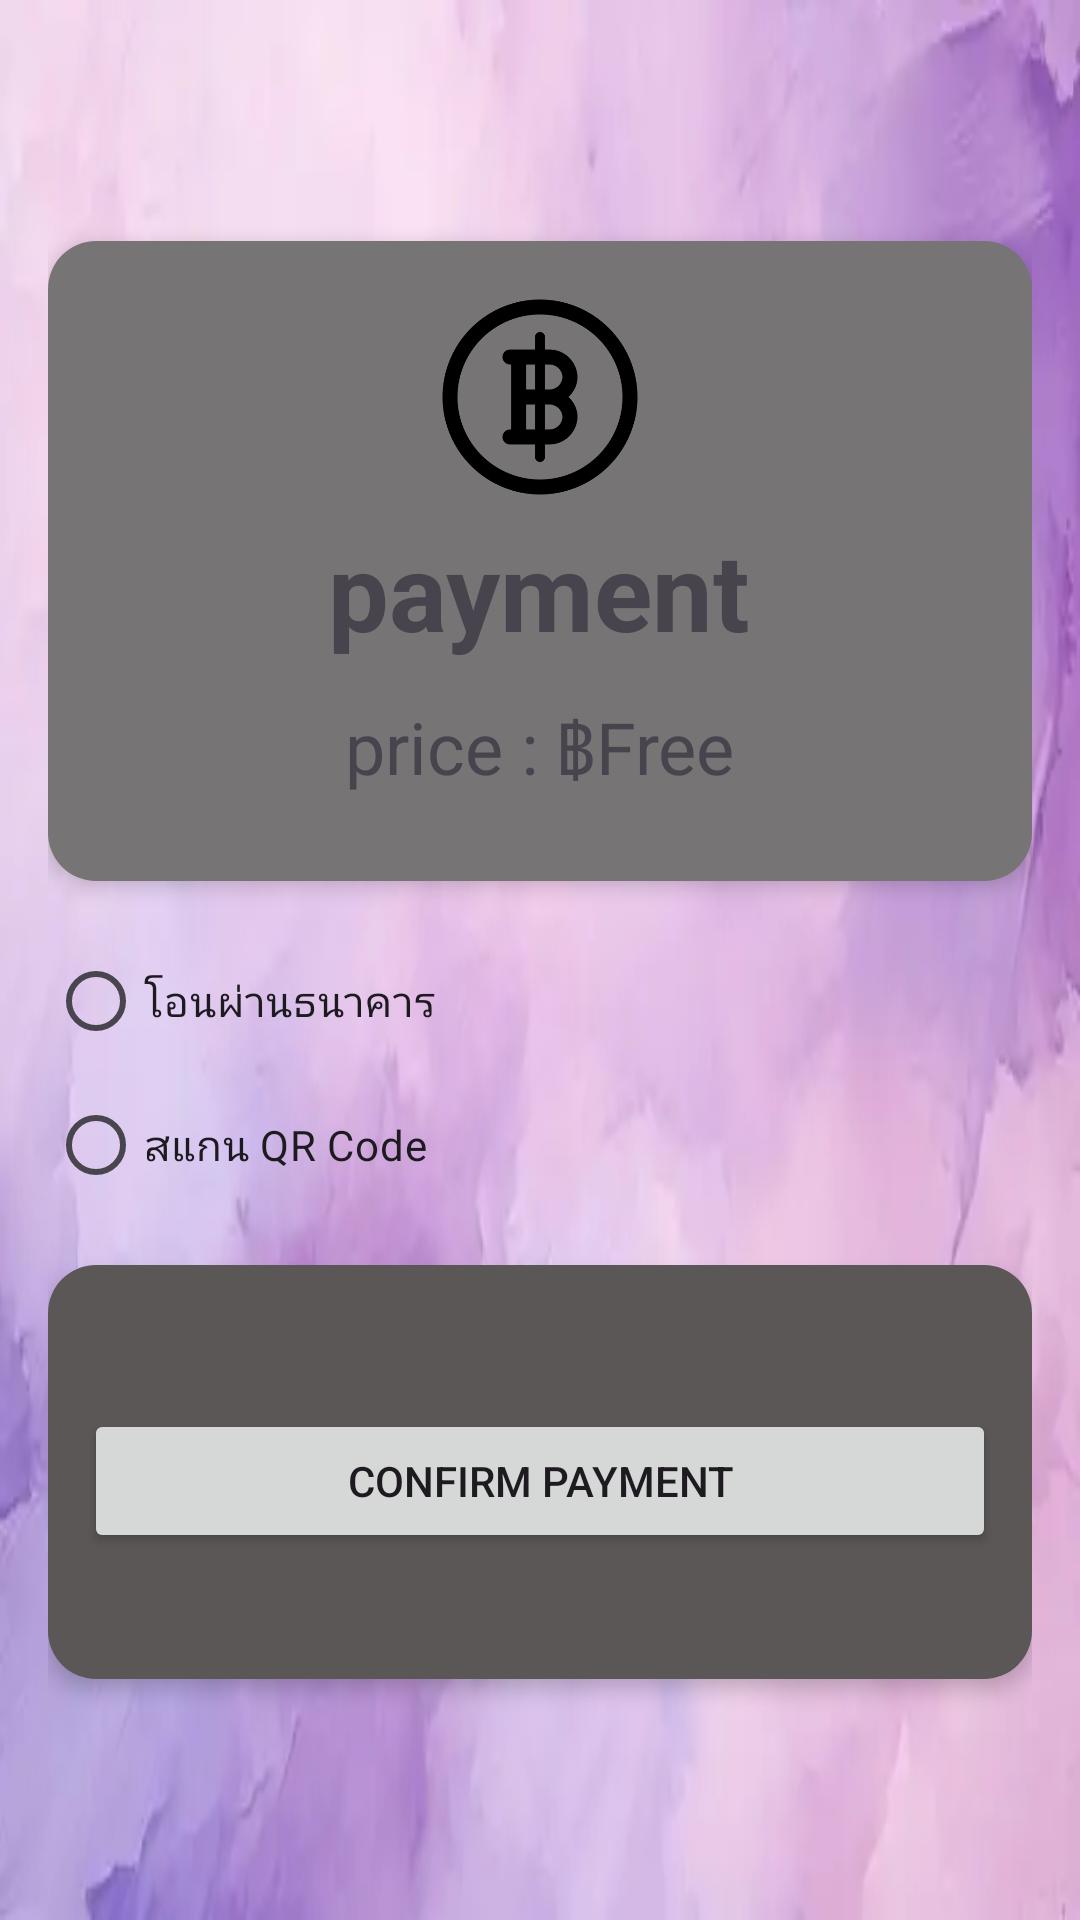

Locate icon controls on the screen. Image size 1080×1920, boxes as (left=x1, top=y1, right=x2, bottom=y2).
moneybasic: (left=442, top=299, right=638, bottom=495)
